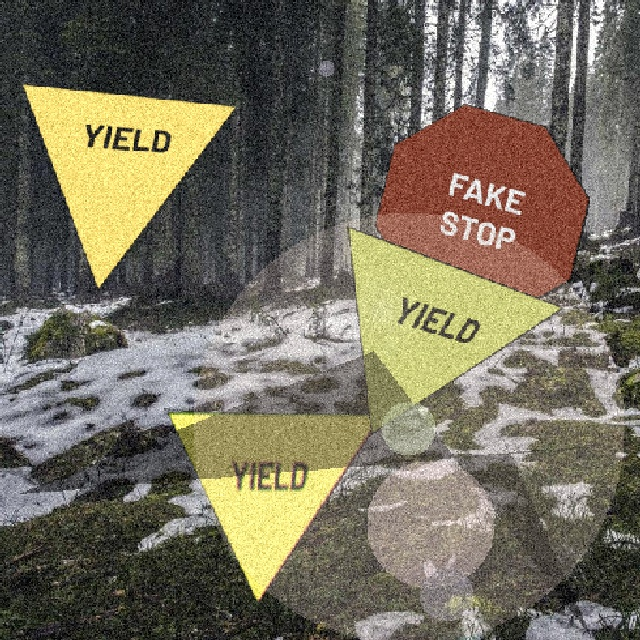FAKE_STOP: (373, 102, 589, 320)
YIELD: (345, 224, 563, 434), (19, 82, 237, 291), (165, 410, 383, 603)
